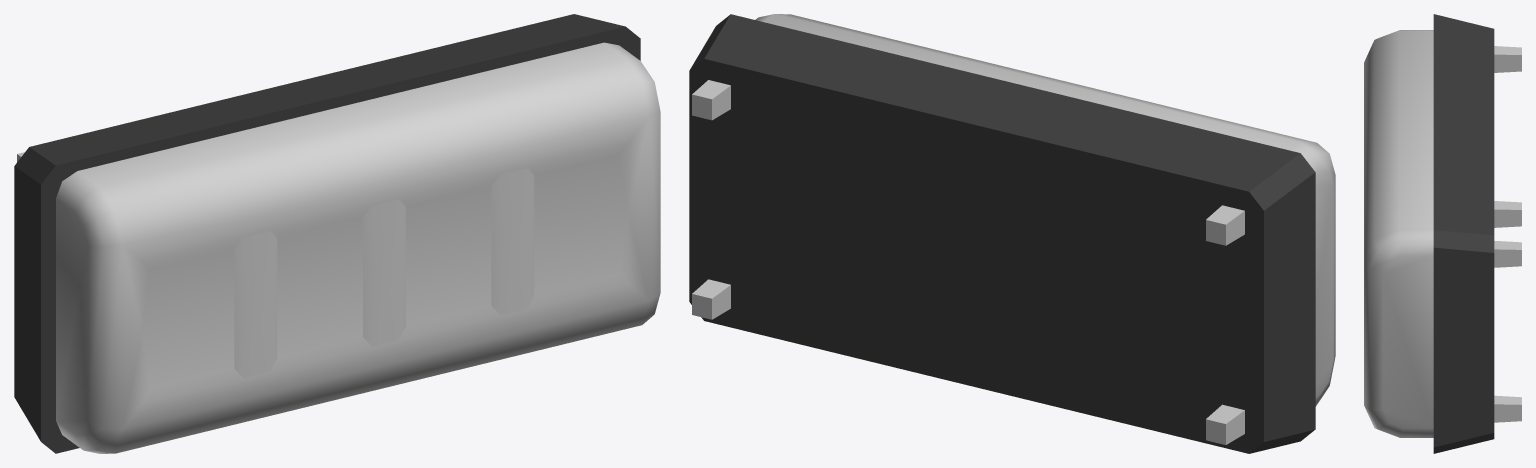
File: Sofa_4.obj
3 renders of one model, left to right at view 1: azimuth 30°, elevation 25°; view 2: azimuth 150°, elevation 25°; view 3: azimuth 270°, elevation 25°, orthographic. The views are drawn at different scales.
Parts seen in each view (by area): view 1: Sofa_4; view 2: Sofa_4; view 3: Sofa_4.
Part boxes in pixels (<box>): Sofa_4: <box>14,14,660,453</box>; Sofa_4: <box>689,14,1335,453</box>; Sofa_4: <box>1364,14,1521,453</box>.
Bounding box in the file's own units: 1.63 × 0.75 × 0.4793.
